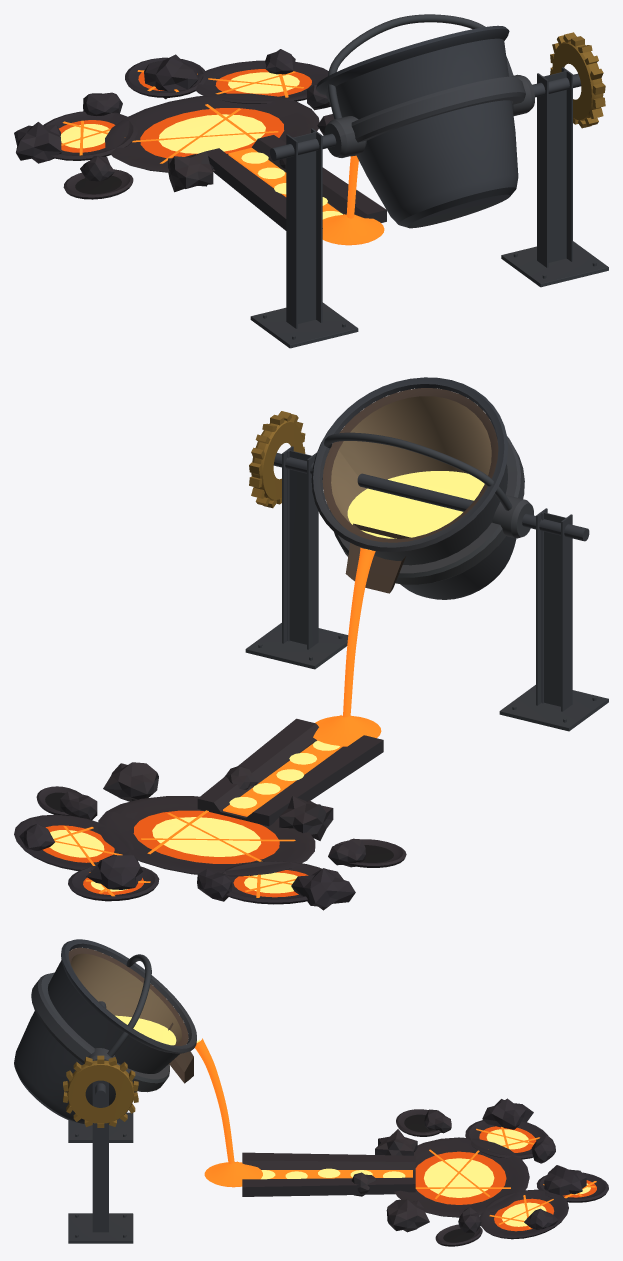
The model's file is foundry_dress_crucible.glb.
3 renders of one model, top to bottom at view 1: azimuth 30°, elevation 25°; view 2: azimuth 150°, elevation 25°; view 3: azimuth 270°, elevation 25°, orthographic. The views are drawn at different scales.
Visible parts, largest first — view 1: crucible_shell, slag_crust, crucible_standard_n, crucible_standard_p, pool_main_crust, channel_bed, crucible_trunnion_ring, pool_main_core, crucible_standard_base_n, crucible_standard_base_p, pool_main_skin, pool_b_crust (+18 smaller); view 2: crucible_shell, slag_crust, crucible_lining, crucible_standard_n, channel_bed, crucible_standard_p, pool_main_crust, crucible_melt, crucible_trunnion_ring, crucible_lining_burnt, pool_main_core, crucible_trunnion_shaft (+19 smaller); view 3: crucible_shell, slag_crust, channel_bed, crucible_lining, pool_main_crust, crucible_gear_rim, crucible_trunnion_ring, crucible_standard_p, pool_main_core, pool_main_skin, crucible_standard_base_p, pool_b_crust (+17 smaller).
Part boxes in pixels (x1,y1,x2,y2): crucible_shell: (315,25,518,228); slag_crust: (14,49,334,192); crucible_standard_n: (286,128,322,328); crucible_standard_p: (537,67,572,267); pool_main_crust: (105,93,319,172); channel_bed: (207,135,386,230); crucible_trunnion_ring: (350,76,525,156); pool_main_core: (159,114,265,153); crucible_standard_base_n: (250,302,358,348); crucible_standard_base_p: (501,241,608,287); pool_main_skin: (140,108,284,158); pool_b_crust: (192,60,328,103); crucible_shell: (311,377,516,599); slag_crust: (19,762,365,910); crucible_lining: (331,396,491,523); crucible_standard_n: (536,508,572,711); channel_bed: (197,718,383,826); crucible_standard_p: (282,446,318,649); pool_main_crust: (98,796,315,876); crucible_melt: (347,471,484,538); crucible_trunnion_ring: (330,421,524,584); crucible_lining_burnt: (322,388,498,542); pool_main_core: (152,817,261,856); crucible_trunnion_shaft: (273,453,589,541); crucible_shell: (14,939,196,1123); slag_crust: (351,1098,586,1232); channel_bed: (242,1152,415,1196); crucible_lining: (71,953,181,1044); pool_main_crust: (394,1137,529,1217); crucible_gear_rim: (67,1060,134,1123); crucible_trunnion_ring: (31,972,169,1092); crucible_standard_p: (92,1080,108,1232); pool_main_core: (424,1158,494,1197); pool_main_skin: (415,1151,506,1204); crucible_standard_base_p: (68,1213,133,1243); pool_b_crust: (480,1189,568,1239).
Size of the model in its own units: 5.98 by 4.89 by 10.98.
